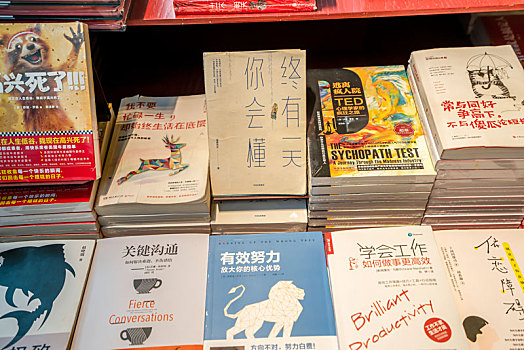book: (203, 51, 309, 199), (76, 234, 207, 349), (210, 222, 332, 345), (3, 24, 91, 176), (335, 227, 434, 347), (419, 40, 523, 150), (313, 66, 421, 171), (435, 229, 524, 348), (109, 94, 202, 207), (2, 242, 75, 349)
